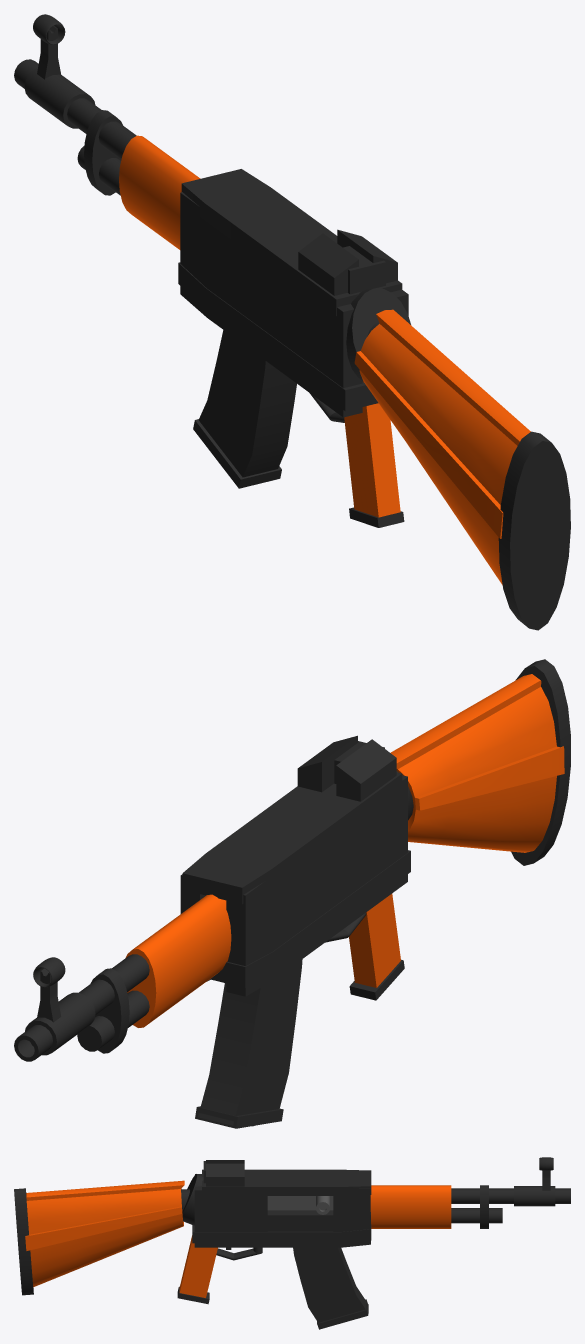
The model's file is AssaultRifle.obj.
3 views of the same model, one above another, from view 1: azimuth 30°, elevation 25°; view 2: azimuth 150°, elevation 25°; view 3: azimuth 270°, elevation 25° (orthographic). The views are drawn at different scales.
Visible parts, largest first — view 1: AssaultRifle pCylinder6, AssaultRifle polySurface4, pCylinder7 AssaultRifle, AssaultRifle polySurface3, AssaultRifle pCube14, AssaultRifle pCylinder3, AssaultRifle pCube16, AssaultRifle polySurface8, AssaultRifle pCube10, AssaultRifle pCylinder5, AssaultRifle rifle_barrel, AssaultRifle rifle_barrel2 (+5 smaller); view 2: AssaultRifle pCylinder6, AssaultRifle polySurface4, AssaultRifle polySurface3, AssaultRifle pCube14, AssaultRifle pCylinder3, AssaultRifle polySurface8, pCylinder7 AssaultRifle, AssaultRifle pCube16, AssaultRifle rifle_barrel, AssaultRifle pCube10, AssaultRifle rifle_barrel2, AssaultRifle pCube13 (+6 smaller); view 3: AssaultRifle pCylinder6, AssaultRifle pCube14, AssaultRifle polySurface3, AssaultRifle pCylinder3, AssaultRifle polySurface5, AssaultRifle polySurface8, AssaultRifle polySurface2, AssaultRifle polySurface1, AssaultRifle pCube16, pCylinder7 AssaultRifle, AssaultRifle rifle_barrel, AssaultRifle rifle_bolt1 (+8 smaller).
Part boxes in pixels (left/top/right/bottom): AssaultRifle pCylinder6: left=354, top=309, right=530, bottom=584; AssaultRifle polySurface4: left=180, top=192, right=362, bottom=417; pCylinder7 AssaultRifle: left=498, top=431, right=570, bottom=630; AssaultRifle polySurface3: left=181, top=169, right=402, bottom=315; AssaultRifle pCube14: left=198, top=330, right=296, bottom=477; AssaultRifle pCylinder3: left=119, top=135, right=200, bottom=249; AssaultRifle pCube16: left=344, top=381, right=400, bottom=517; AssaultRifle polySurface8: left=178, top=262, right=378, bottom=411; AssaultRifle pCube10: left=298, top=233, right=358, bottom=295; AssaultRifle pCylinder5: left=346, top=288, right=410, bottom=381; AssaultRifle rifle_barrel: left=14, top=59, right=136, bottom=159; AssaultRifle rifle_barrel2: left=24, top=67, right=95, bottom=128; AssaultRifle pCylinder6: left=390, top=674, right=564, bottom=852; AssaultRifle polySurface4: left=226, top=775, right=407, bottom=996; AssaultRifle polySurface3: left=182, top=772, right=402, bottom=904; AssaultRifle pCube14: left=198, top=959, right=302, bottom=1126; AssaultRifle pCylinder3: left=125, top=894, right=231, bottom=1027; AssaultRifle polySurface8: left=210, top=850, right=410, bottom=987; pCylinder7 AssaultRifle: left=511, top=659, right=570, bottom=865; AssaultRifle pCube16: left=349, top=893, right=400, bottom=987; AssaultRifle rifle_barrel: left=14, top=954, right=149, bottom=1061; AssaultRifle pCube10: left=336, top=739, right=396, bottom=801; AssaultRifle rifle_barrel2: left=25, top=992, right=95, bottom=1055; AssaultRifle pCube13: left=297, top=735, right=357, bottom=792; AssaultRifle pCylinder6: left=25, top=1180, right=184, bottom=1287; AssaultRifle pCube14: left=293, top=1247, right=368, bottom=1322; AssaultRifle polySurface3: left=202, top=1169, right=371, bottom=1195; AssaultRifle pCylinder3: left=370, top=1185, right=451, bottom=1228; AssaultRifle polySurface5: left=194, top=1186, right=267, bottom=1247; AssaultRifle polySurface8: left=192, top=1224, right=371, bottom=1243; AssaultRifle polySurface2: left=267, top=1210, right=370, bottom=1247; AssaultRifle polySurface1: left=333, top=1188, right=370, bottom=1231; AssaultRifle pCube16: left=179, top=1235, right=217, bottom=1297; pCylinder7 AssaultRifle: left=14, top=1188, right=33, bottom=1295; AssaultRifle rifle_barrel: left=451, top=1188, right=570, bottom=1203; AssaultRifle rifle_bolt1: left=267, top=1196, right=333, bottom=1214.
Size of the model in its own units: 0.3366 by 1.17 by 3.55.
